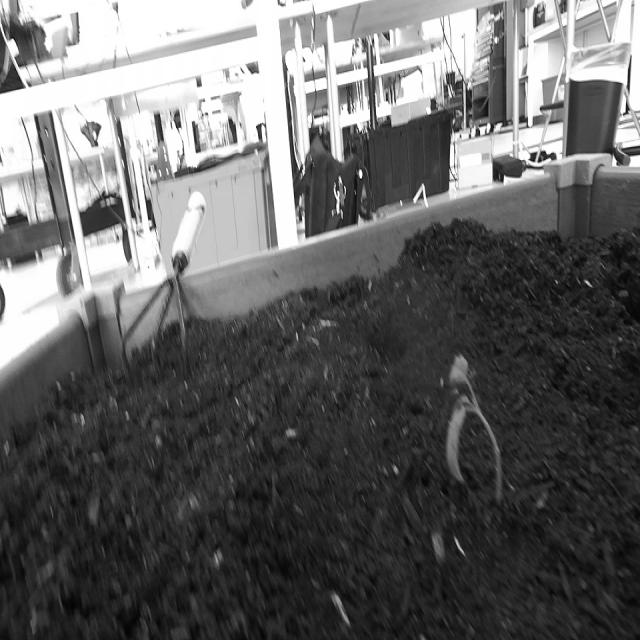Healthy: (436, 350, 513, 519)
